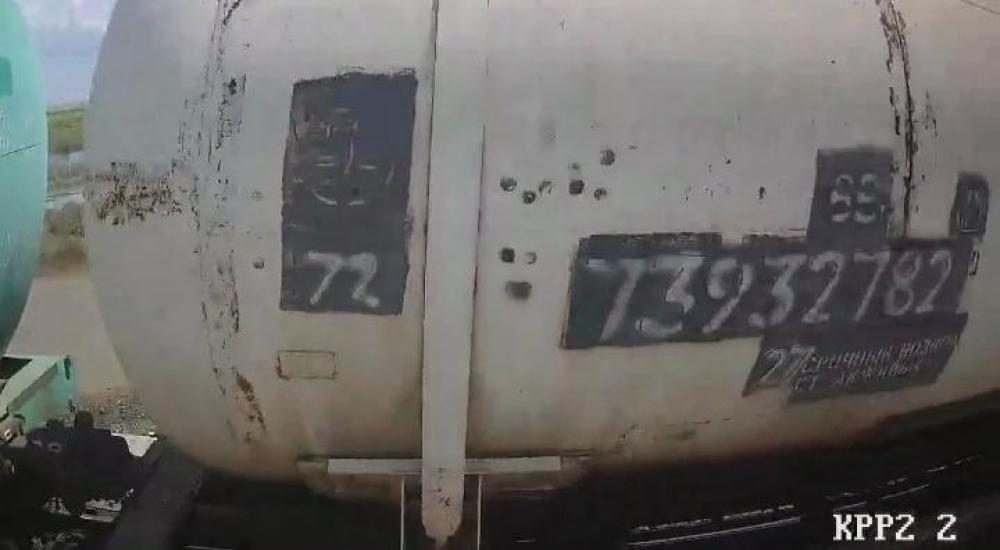Wagon-number: (570, 243, 962, 340)
